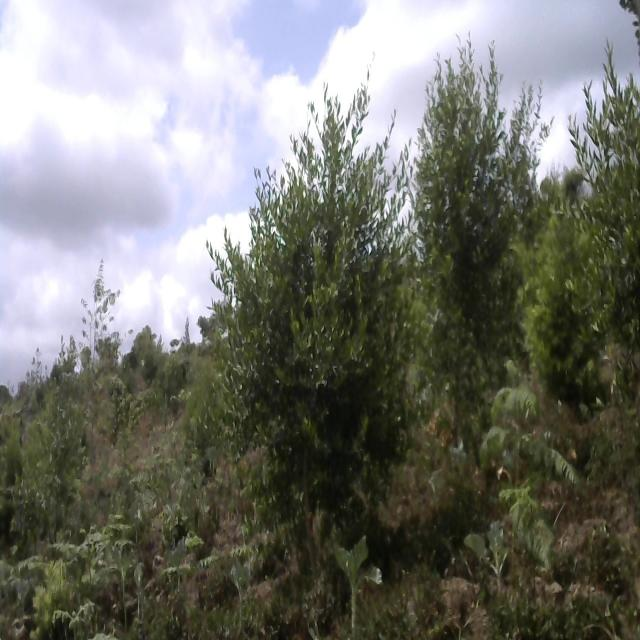Olea europea -africana-: (202, 44, 419, 558), (400, 23, 548, 382), (564, 51, 640, 372)
